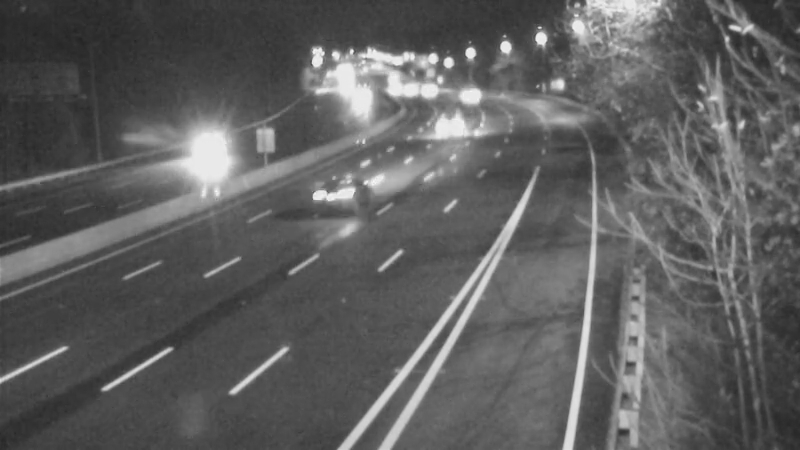vehicle: (303, 152, 383, 232), (387, 63, 437, 113), (369, 65, 419, 115), (402, 64, 452, 114), (441, 73, 491, 123), (429, 102, 479, 152), (181, 124, 231, 174), (335, 74, 385, 124)
